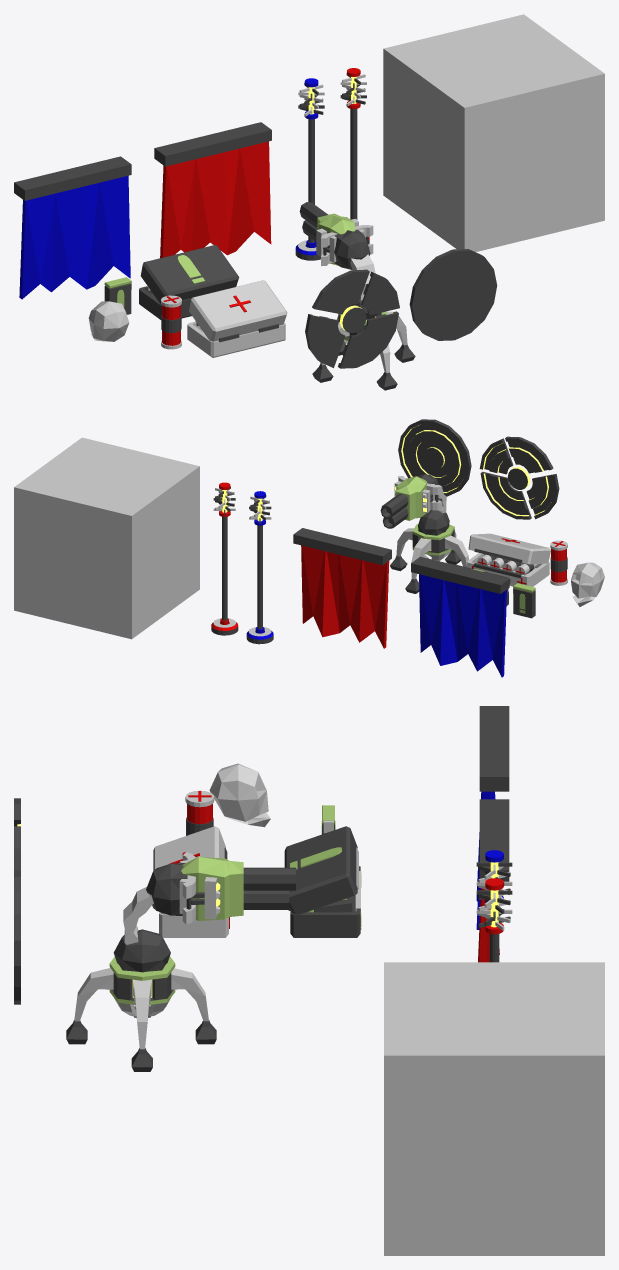
The model's file is Gamemode_Objects.dae.
3 views of the same model, one above another, from view 1: azimuth 30°, elevation 25°; view 2: azimuth 150°, elevation 25°; view 3: azimuth 270°, elevation 25° (orthographic). The views are drawn at different scales.
Parts seen in each view (by area): view 1: TileSize, Banner_Blue, Banner_Red, Target_whole, Health_Kit, Ammo_Box, Turret_Head, Target_broken_piece_3, Turret_base, Flag_Red, Target_broken_piece, Target_broken_piece_2 (+6 smaller); view 2: TileSize, Banner_Red, Banner_Blue, Target_whole, Health_Kit, Turret_base, Turret_Head, Target_broken_piece_3, Flag_Blue, Flag_Red, Skull, Target_broken_piece (+7 smaller); view 3: TileSize, Turret_Head, Turret_base, Ammo_Box, Health_Kit, Banner_Blue, Skull, Banner_Red, Flag_Red, Health_Kit_small, Target_whole, Flag_Blue.
Part boxes in pixels (x1,y1,x2,y2): TileSize: [383, 14, 604, 251]; Banner_Blue: [14, 156, 131, 299]; Banner_Red: [154, 122, 271, 258]; Target_whole: [409, 249, 497, 340]; Health_Kit: [187, 280, 287, 357]; Ammo_Box: [139, 245, 239, 319]; Turret_Head: [299, 202, 375, 301]; Target_broken_piece_3: [338, 311, 398, 368]; Turret_base: [312, 301, 415, 390]; Flag_Red: [340, 68, 366, 219]; Target_broken_piece: [312, 269, 369, 314]; Target_broken_piece_2: [305, 314, 345, 367]; TileSize: [14, 437, 199, 639]; Banner_Red: [293, 528, 391, 648]; Banner_Blue: [411, 556, 509, 677]; Target_whole: [398, 419, 471, 496]; Health_Kit: [467, 533, 550, 586]; Turret_base: [390, 510, 468, 593]; Turret_Head: [380, 474, 446, 528]; Target_broken_piece_3: [480, 471, 531, 519]; Flag_Blue: [249, 491, 271, 633]; Flag_Red: [213, 482, 235, 624]; Skull: [571, 562, 604, 606]; Target_broken_piece: [505, 436, 553, 473]; TileSize: [384, 962, 604, 1255]; Turret_Head: [123, 852, 295, 944]; Turret_base: [66, 929, 216, 1071]; Ammo_Box: [284, 826, 361, 937]; Health_Kit: [153, 826, 229, 937]; Banner_Blue: [476, 706, 509, 929]; Skull: [209, 763, 270, 827]; Banner_Red: [478, 799, 509, 962]; Flag_Red: [476, 878, 512, 962]; Health_Kit_small: [185, 790, 214, 835]; Target_whole: [14, 870, 20, 1004]; Flag_Blue: [476, 850, 512, 909].
Size of the model in its own units: 40.2 by 26.74 by 11.91.
